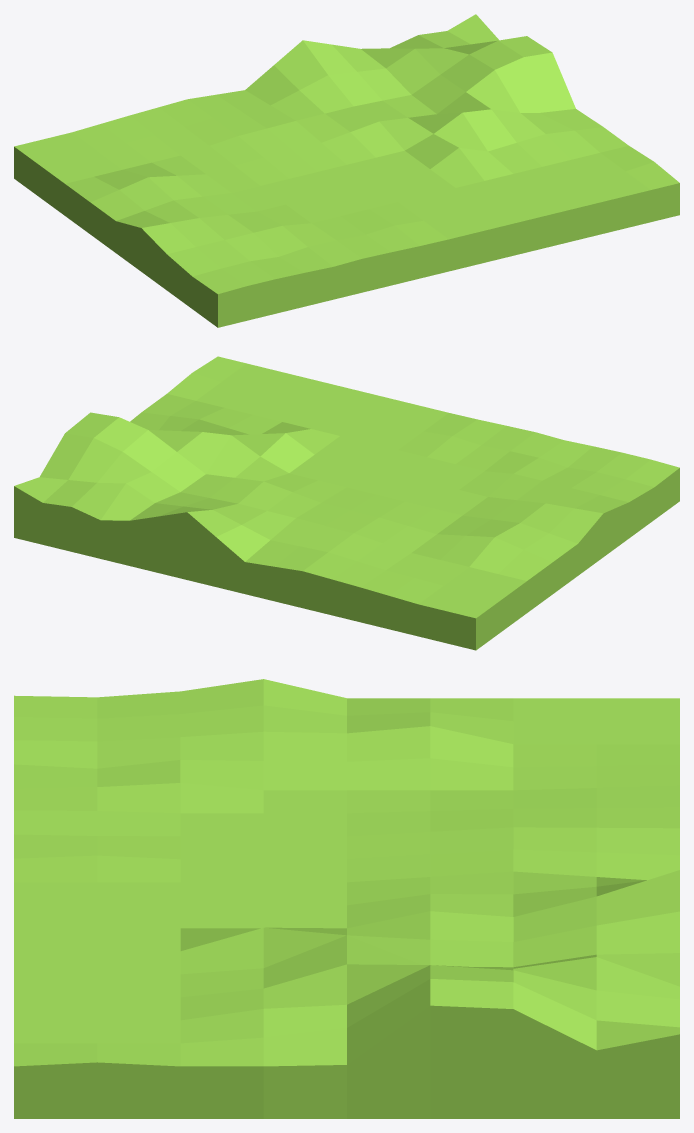
3 views of the same model, one above another, from view 1: azimuth 30°, elevation 25°; view 2: azimuth 150°, elevation 25°; view 3: azimuth 270°, elevation 25° (orthographic). The views are drawn at different scales.
Parts seen in each view (by area): view 1: 3/1; view 2: 3/1; view 3: 3/1.
Boxes of the visible parts, left/top/right/bottom form: 3/1: left=14, top=14, right=679, bottom=327; 3/1: left=14, top=356, right=679, bottom=650; 3/1: left=14, top=679, right=679, bottom=1118.
Bounding box in the file's own units: 5338 × 791 × 4080.
